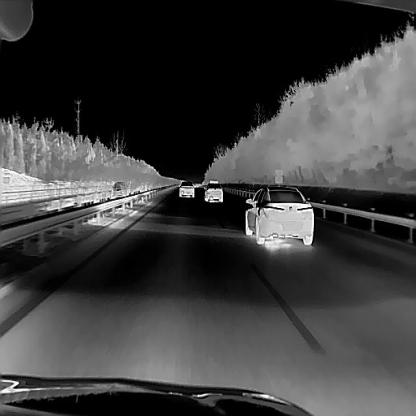car: (244, 185, 314, 244), (204, 178, 222, 201), (178, 178, 194, 196)
